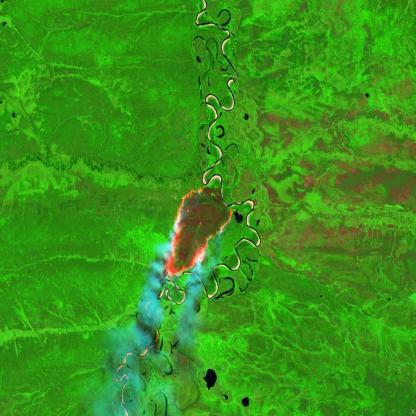fire: (164, 183, 234, 281)
